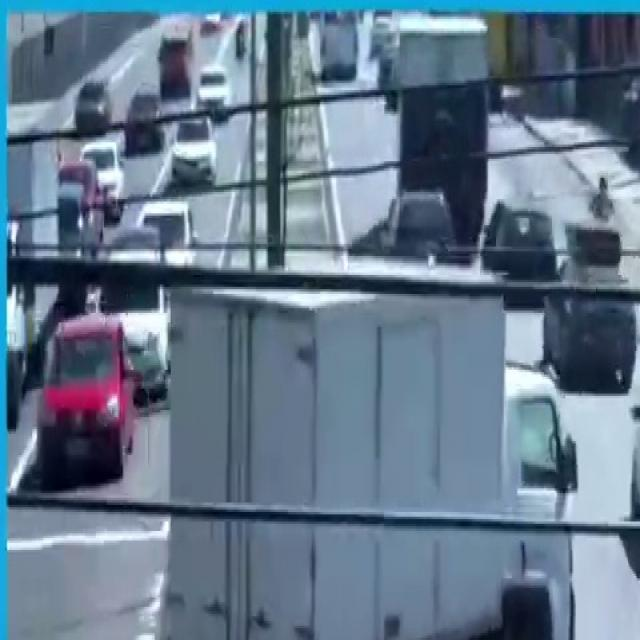car: (32, 313, 140, 489), (539, 254, 639, 387), (172, 107, 219, 193), (119, 88, 169, 162), (68, 72, 115, 136), (630, 370, 640, 588)
truck: (167, 256, 585, 640), (390, 12, 490, 247), (8, 100, 59, 415)
